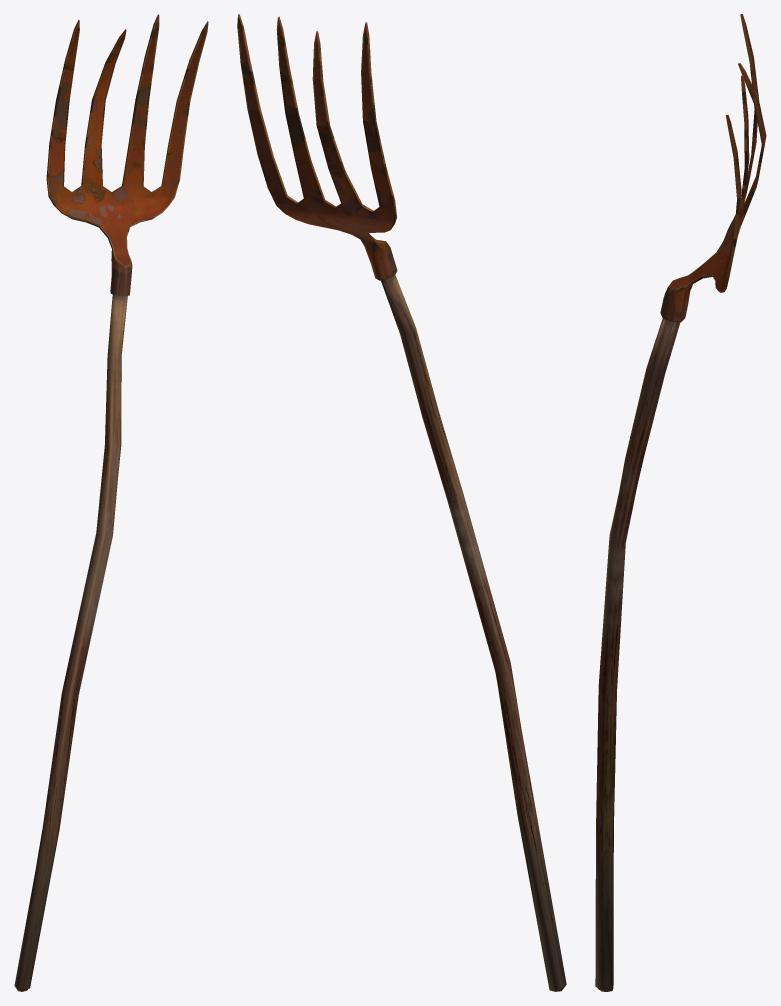
File: Pitchfork(new).fbx
3 renders of one model, left to right at view 1: azimuth 30°, elevation 25°; view 2: azimuth 150°, elevation 25°; view 3: azimuth 270°, elevation 25°, orthographic. The views are drawn at different scales.
Visible parts, largest first — view 1: Pitchfork; view 2: Pitchfork; view 3: Pitchfork.
Boxes of the visible parts, x1,y1,x2,y2 form: Pitchfork: (14, 14, 208, 991); Pitchfork: (237, 14, 566, 991); Pitchfork: (595, 14, 766, 991).
Bounding box in the file's own units: 0.4886 × 0.2548 × 1.71.
1 material, 1 textured.
